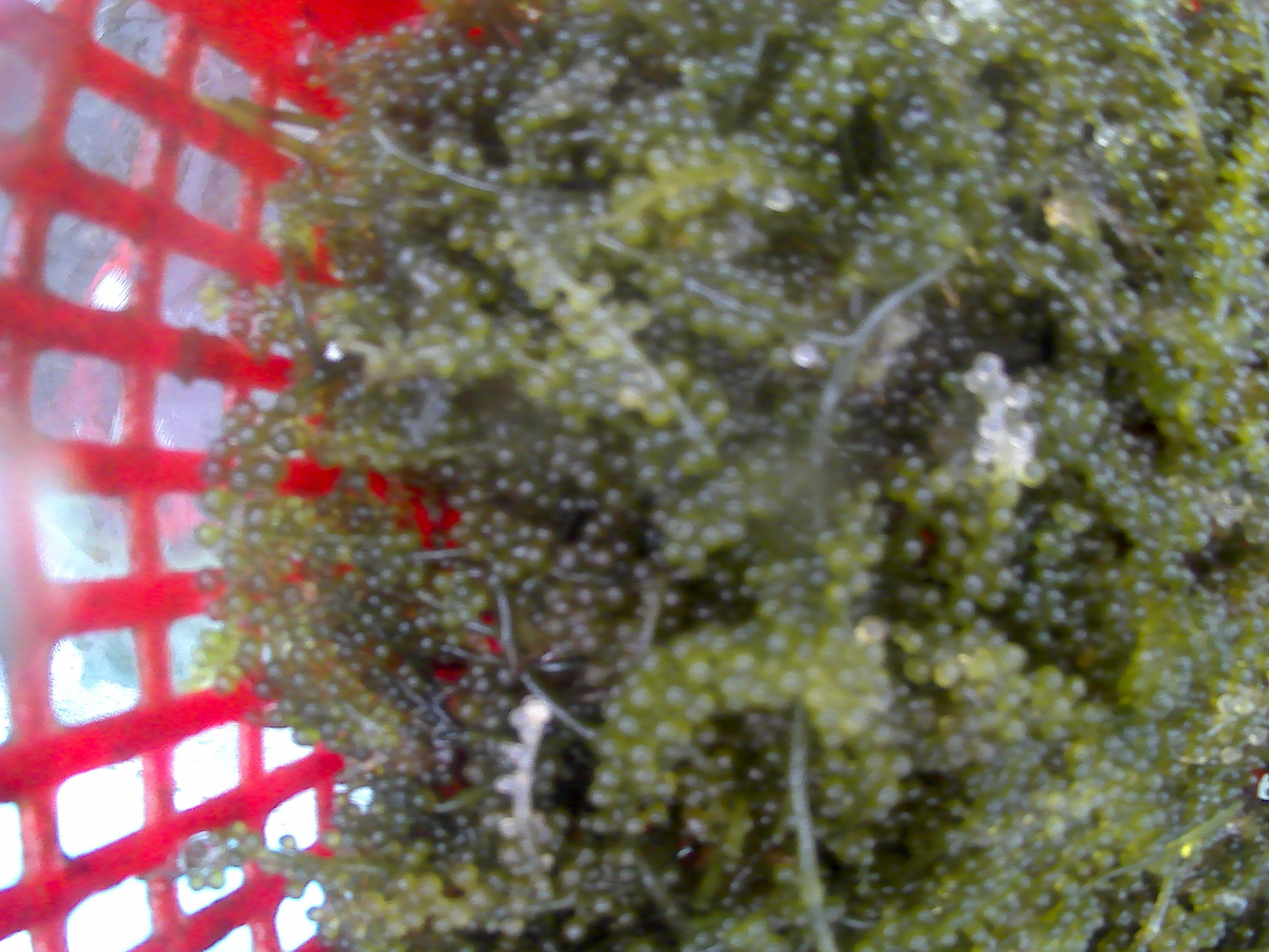Darkening: (572, 587, 599, 612), (558, 549, 583, 575), (941, 536, 967, 561), (580, 520, 605, 545), (545, 619, 571, 643), (661, 589, 686, 613), (960, 573, 985, 597), (605, 589, 629, 613), (589, 551, 613, 573), (897, 584, 921, 606), (920, 587, 942, 610), (598, 513, 623, 533), (991, 291, 1013, 313), (943, 733, 965, 754), (578, 470, 599, 492), (547, 601, 571, 620), (633, 565, 654, 586), (938, 510, 959, 530), (563, 923, 584, 943), (561, 867, 581, 888), (592, 895, 613, 915), (579, 633, 598, 655), (611, 543, 634, 561), (1008, 310, 1028, 330), (662, 616, 684, 633), (973, 616, 992, 635), (577, 847, 596, 866), (516, 480, 535, 499), (905, 415, 924, 434), (883, 415, 902, 433), (494, 477, 512, 496), (427, 506, 445, 523), (1022, 591, 1040, 608), (419, 495, 436, 511), (438, 465, 455, 481), (914, 371, 932, 386), (449, 494, 465, 510), (894, 684, 910, 699), (888, 390, 906, 403), (739, 584, 754, 599)
Harvestable: (823, 539, 858, 576), (680, 650, 714, 687), (993, 641, 1028, 674), (838, 704, 871, 738), (727, 643, 759, 675), (773, 666, 805, 698), (903, 656, 933, 687), (662, 355, 693, 385), (643, 399, 674, 429), (627, 683, 658, 713), (1035, 663, 1065, 693), (932, 660, 962, 689), (823, 580, 852, 609), (901, 924, 931, 952), (690, 306, 718, 336), (417, 872, 445, 901), (765, 628, 793, 656), (616, 217, 645, 244), (931, 924, 959, 951), (876, 781, 903, 808), (473, 352, 500, 379), (1001, 716, 1027, 744), (930, 468, 956, 496), (901, 630, 929, 656), (892, 238, 917, 267), (828, 52, 855, 78), (848, 569, 874, 596), (870, 722, 897, 748), (670, 633, 696, 660), (679, 450, 705, 477), (627, 742, 655, 767), (860, 539, 886, 565), (828, 100, 855, 125), (719, 674, 746, 699), (888, 752, 913, 778), (950, 598, 976, 623), (863, 749, 889, 774), (618, 713, 643, 739), (694, 689, 719, 715), (801, 90, 827, 115), (987, 507, 1013, 532), (611, 176, 637, 201), (508, 246, 534, 271), (823, 776, 848, 801), (584, 155, 609, 180), (772, 862, 797, 887), (868, 75, 893, 100), (663, 292, 689, 316), (912, 708, 938, 732), (1018, 38, 1044, 62), (962, 515, 987, 539), (1039, 47, 1064, 71), (1043, 814, 1068, 838), (687, 377, 712, 401), (756, 597, 782, 620), (907, 487, 933, 510), (824, 750, 848, 774), (814, 120, 838, 144), (789, 143, 813, 167), (705, 398, 729, 422), (716, 312, 740, 336), (965, 920, 989, 944), (958, 629, 982, 653), (982, 589, 1007, 612), (917, 133, 942, 156), (663, 684, 686, 709), (864, 643, 887, 667), (700, 526, 723, 550), (709, 633, 732, 657), (493, 229, 517, 252), (1046, 790, 1069, 814), (1025, 463, 1047, 488), (791, 528, 816, 550), (1034, 530, 1057, 553), (555, 388, 578, 411), (869, 103, 892, 126), (661, 264, 683, 288), (743, 565, 767, 587), (767, 560, 791, 582), (588, 786, 612, 808), (598, 767, 622, 789), (889, 213, 911, 237), (932, 559, 955, 581), (821, 728, 844, 750), (768, 347, 790, 370), (871, 667, 893, 690), (940, 371, 963, 393), (993, 567, 1015, 590), (1044, 721, 1068, 742), (1029, 889, 1053, 910), (580, 391, 601, 415), (1066, 676, 1088, 698), (880, 919, 902, 941), (646, 275, 668, 297), (979, 545, 1001, 567), (839, 843, 861, 865), (1105, 145, 1127, 167), (396, 871, 418, 893), (748, 457, 770, 479), (668, 335, 691, 356), (553, 159, 574, 182), (1068, 761, 1092, 781), (859, 480, 881, 501), (932, 618, 953, 640), (724, 498, 745, 520), (938, 190, 960, 211), (1094, 848, 1115, 870), (793, 65, 814, 87), (922, 243, 944, 264), (697, 724, 718, 746), (664, 541, 684, 564), (815, 529, 836, 550), (1001, 785, 1022, 806), (432, 572, 453, 593), (1054, 541, 1075, 562), (837, 193, 858, 214), (807, 569, 828, 589), (685, 543, 705, 564), (843, 519, 864, 539), (666, 314, 687, 334), (938, 714, 959, 734), (405, 909, 426, 929), (1102, 733, 1124, 752), (1015, 873, 1035, 893), (1011, 275, 1030, 296), (952, 484, 971, 505), (405, 570, 425, 589), (921, 204, 941, 223), (1144, 771, 1163, 791), (599, 361, 619, 380), (605, 700, 624, 720), (653, 430, 674, 448), (1048, 606, 1067, 625), (947, 799, 966, 818), (1095, 758, 1114, 777), (1050, 774, 1069, 793), (432, 916, 451, 935), (1117, 747, 1136, 765), (962, 552, 980, 571), (874, 231, 893, 249), (855, 502, 874, 520), (1084, 413, 1102, 431), (890, 477, 908, 495), (1044, 588, 1063, 605), (505, 562, 522, 581), (1133, 757, 1151, 774), (744, 619, 762, 636), (906, 456, 924, 473), (1006, 831, 1023, 848), (575, 365, 593, 381), (884, 64, 901, 80), (789, 585, 806, 601), (655, 112, 672, 128), (858, 850, 874, 866), (895, 156, 911, 172), (1116, 910, 1132, 926), (811, 555, 828, 570), (1014, 608, 1031, 623), (860, 835, 876, 850), (484, 918, 499, 933)
Whitening: (972, 352, 1003, 380), (976, 413, 1006, 439), (1005, 382, 1031, 410), (790, 342, 817, 368), (570, 286, 596, 312), (1008, 422, 1035, 447), (589, 336, 617, 360), (963, 369, 988, 395), (933, 24, 961, 46), (987, 373, 1010, 398), (1093, 124, 1118, 147), (953, 0, 981, 20), (920, 0, 944, 22), (767, 188, 792, 209), (589, 273, 612, 295), (983, 395, 1006, 415), (972, 444, 994, 464), (527, 701, 548, 721), (1234, 695, 1253, 716), (980, 0, 999, 19), (1014, 447, 1033, 465), (1247, 727, 1265, 746), (494, 775, 512, 793), (1219, 746, 1236, 765), (499, 818, 515, 838), (510, 713, 527, 731), (525, 729, 539, 747), (508, 745, 522, 759)
